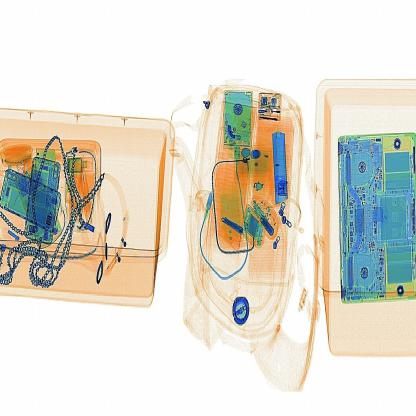pliers: (263, 124, 296, 212)
